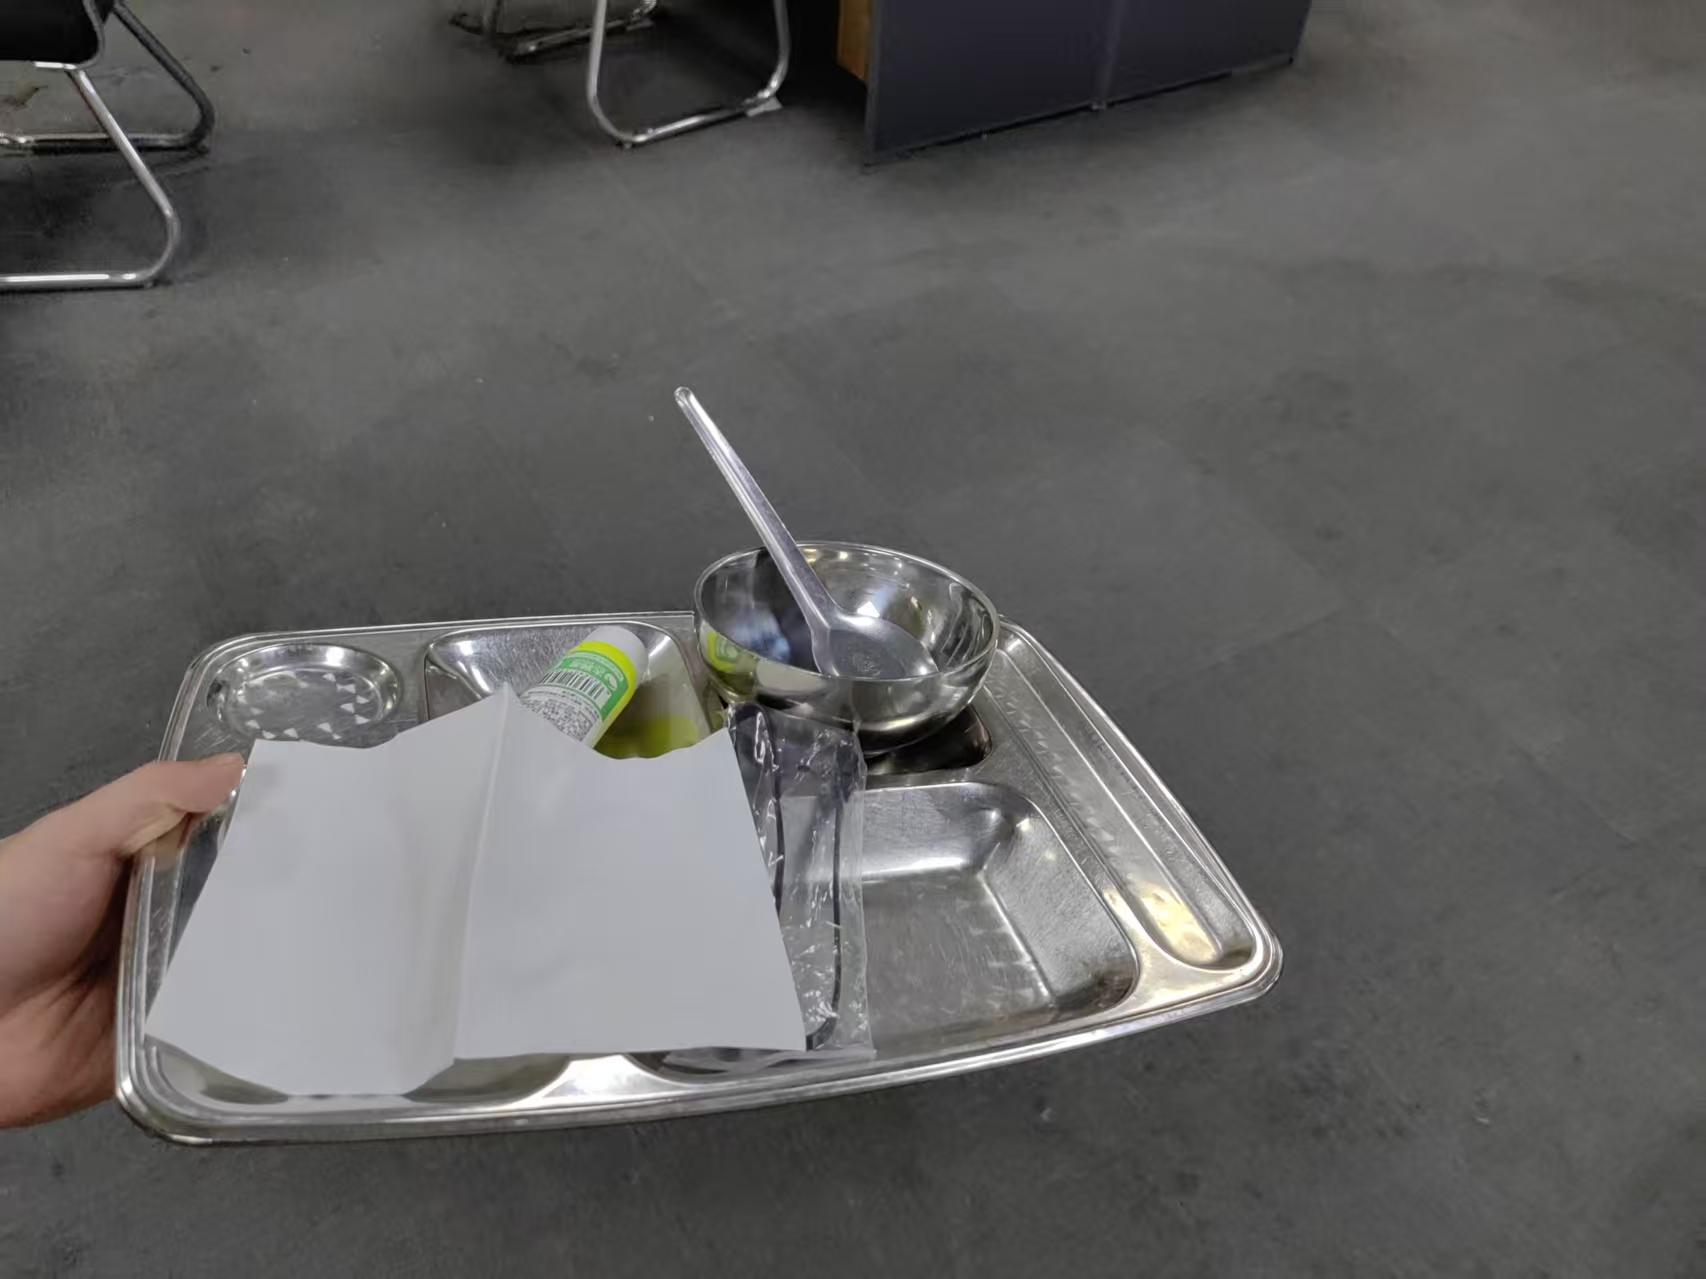mild: (408, 621, 653, 907)
plate: (114, 602, 1289, 1143)
tissue: (153, 685, 814, 1068)
